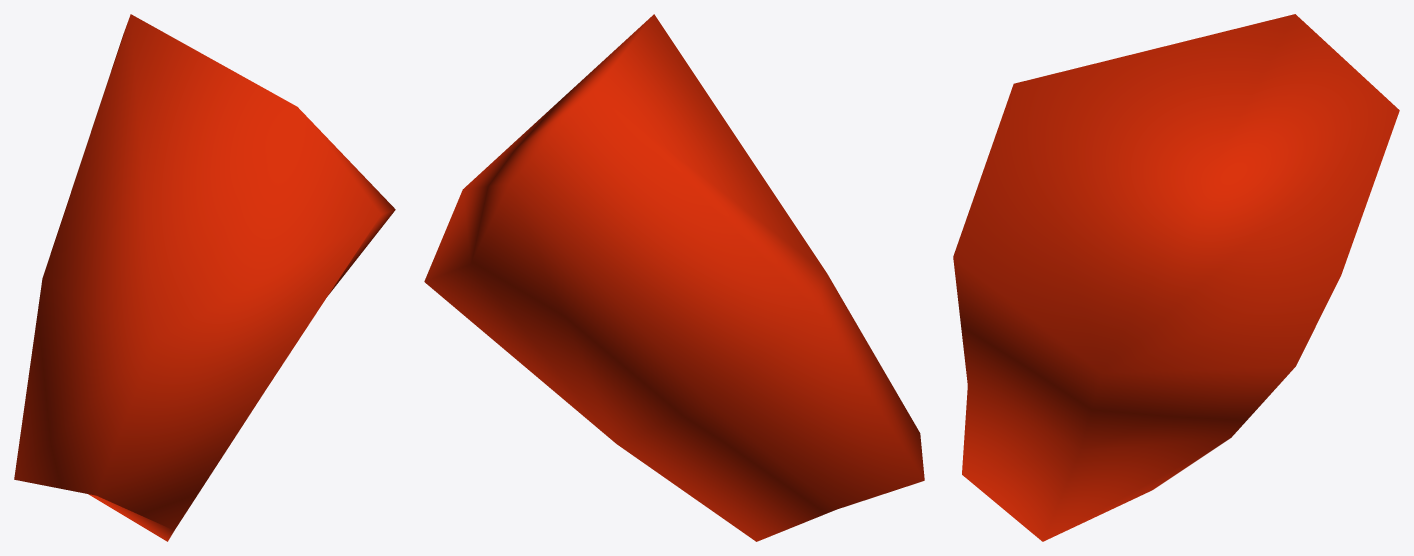
The model's file is CodoIzqu.obj.
3 renders of one model, left to right at view 1: azimuth 30°, elevation 25°; view 2: azimuth 150°, elevation 25°; view 3: azimuth 270°, elevation 25°, orthographic. The views are drawn at different scales.
Visible parts, largest first — view 1: CodoIzqu.001; view 2: CodoIzqu.001; view 3: CodoIzqu.001.
Part boxes in pixels (left/top/right/bottom): CodoIzqu.001: left=14, top=14, right=395, bottom=541; CodoIzqu.001: left=424, top=14, right=924, bottom=541; CodoIzqu.001: left=953, top=14, right=1399, bottom=541.
Size of the model in its own units: 6.5 by 6.98 by 4.99.
1 material, 1 textured.
